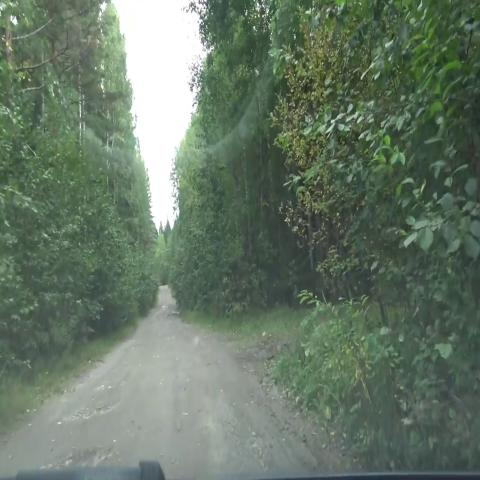pothole: (57, 428, 115, 478), (54, 391, 128, 430), (161, 305, 186, 329)
